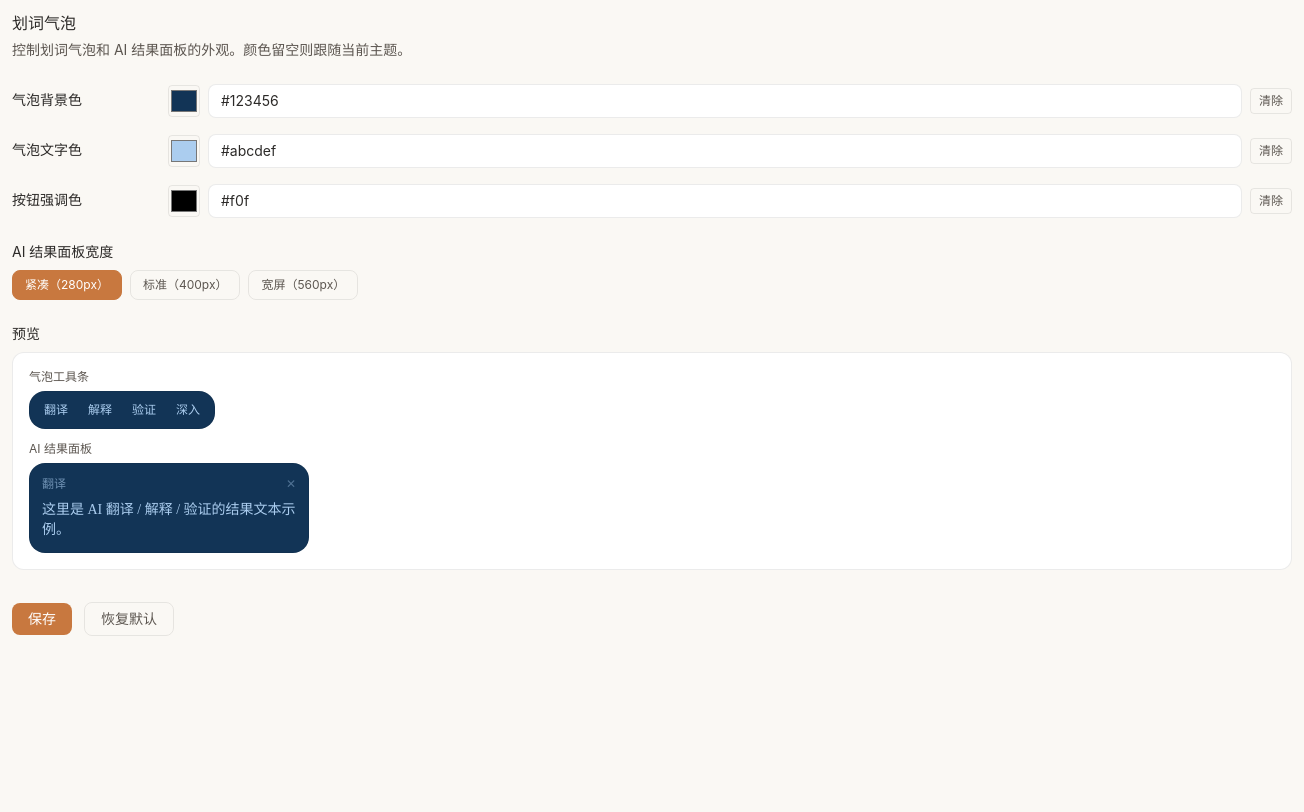
it: SelectionAppearance › keeps draft state consistent when reset fails
Clear the field named "气泡背景色颜色值": (725, 101) [208,84,1242,118]
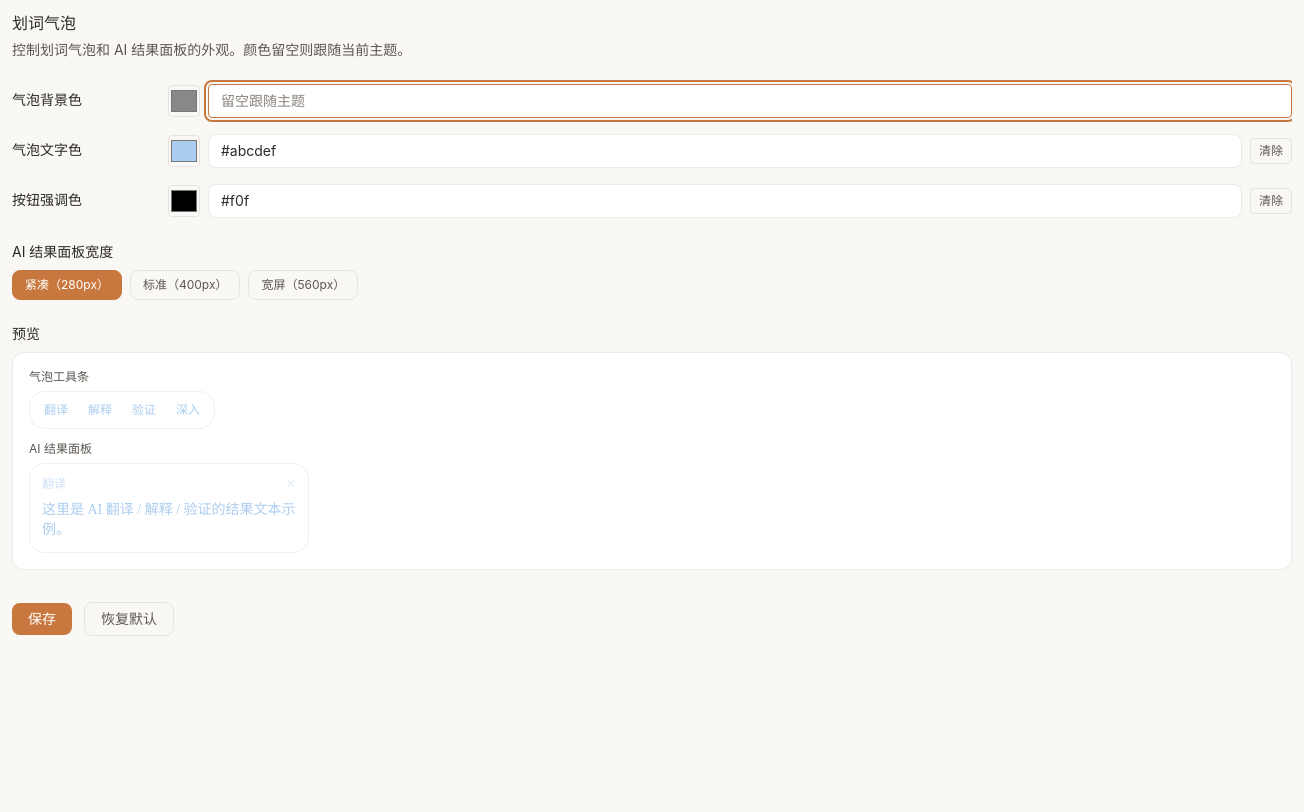
In the field named "气泡背景色颜色值": (750, 101) [208,84,1292,118], type "#654321"
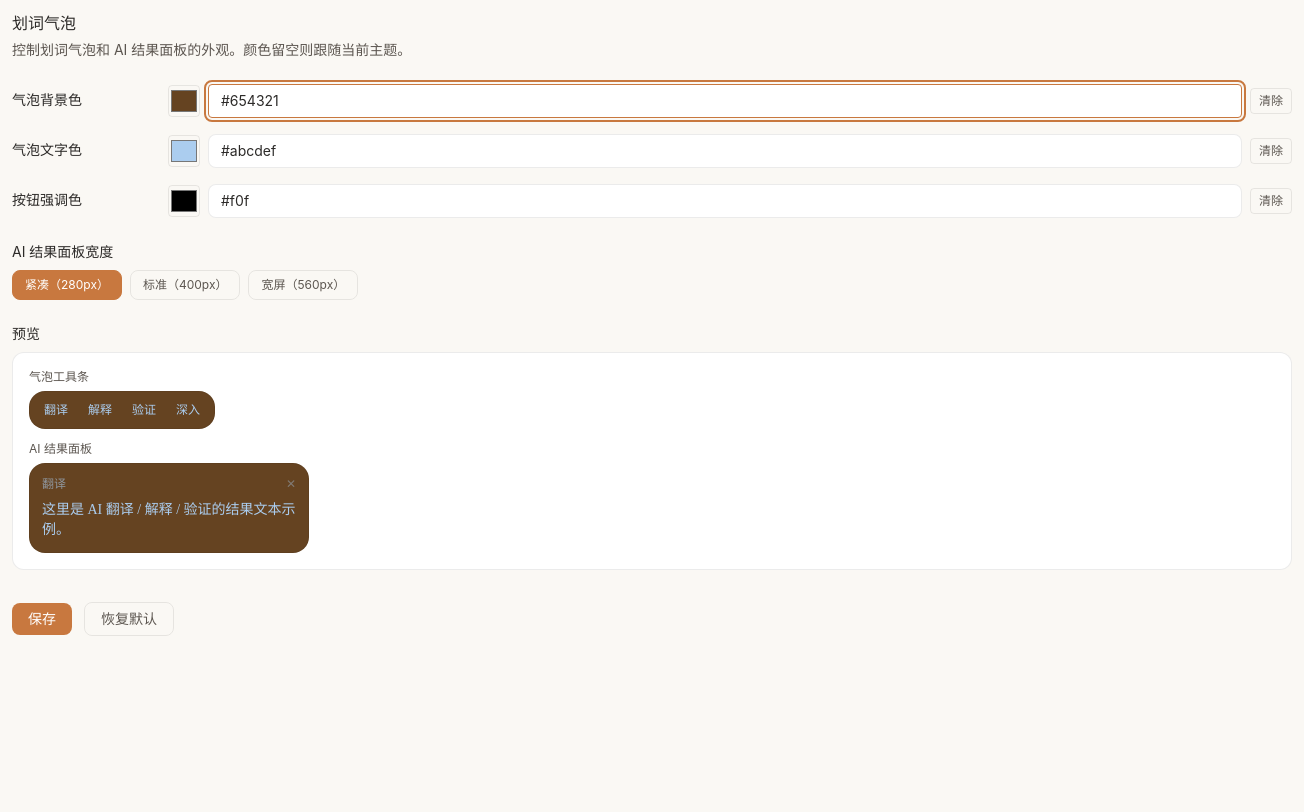
Click the button "宽屏（560px）": (303, 285) [248,270,358,300]
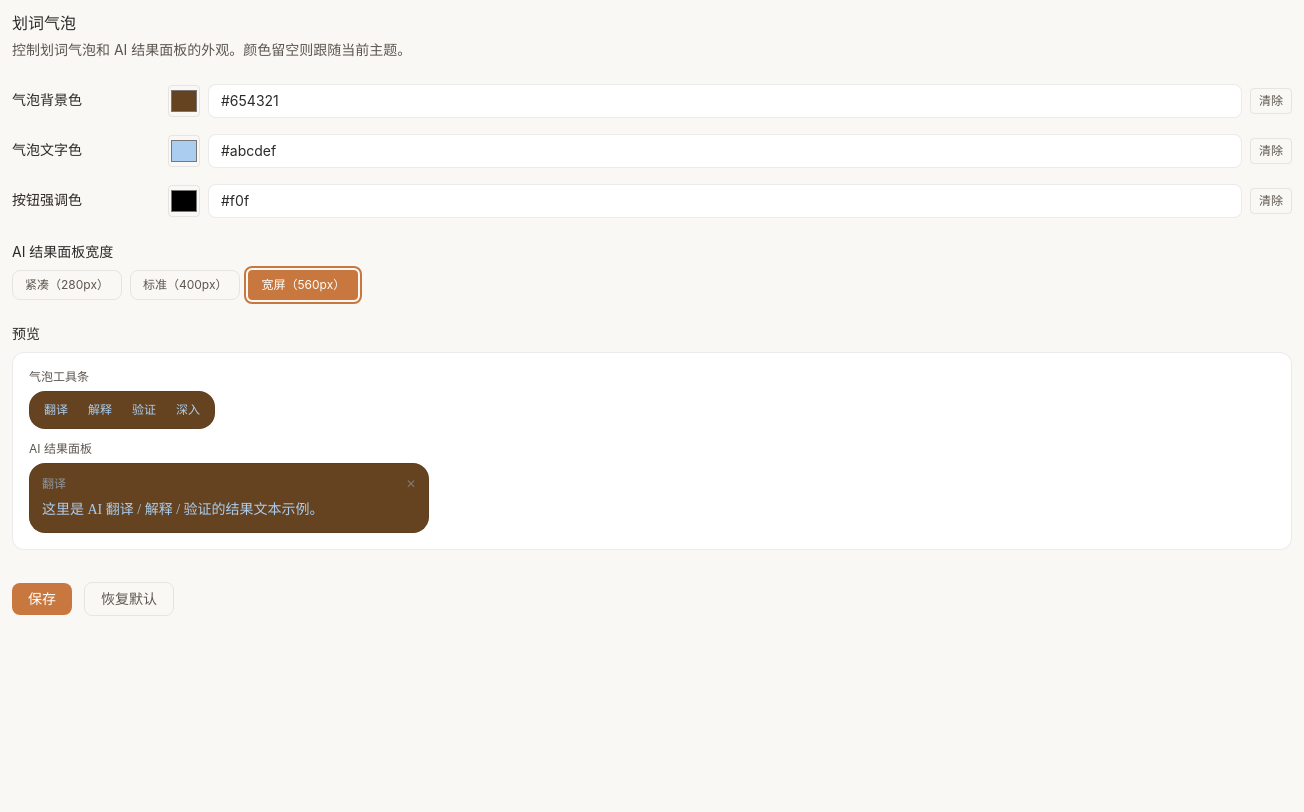
Click the button "恢复默认": (129, 599) [84,582,174,616]
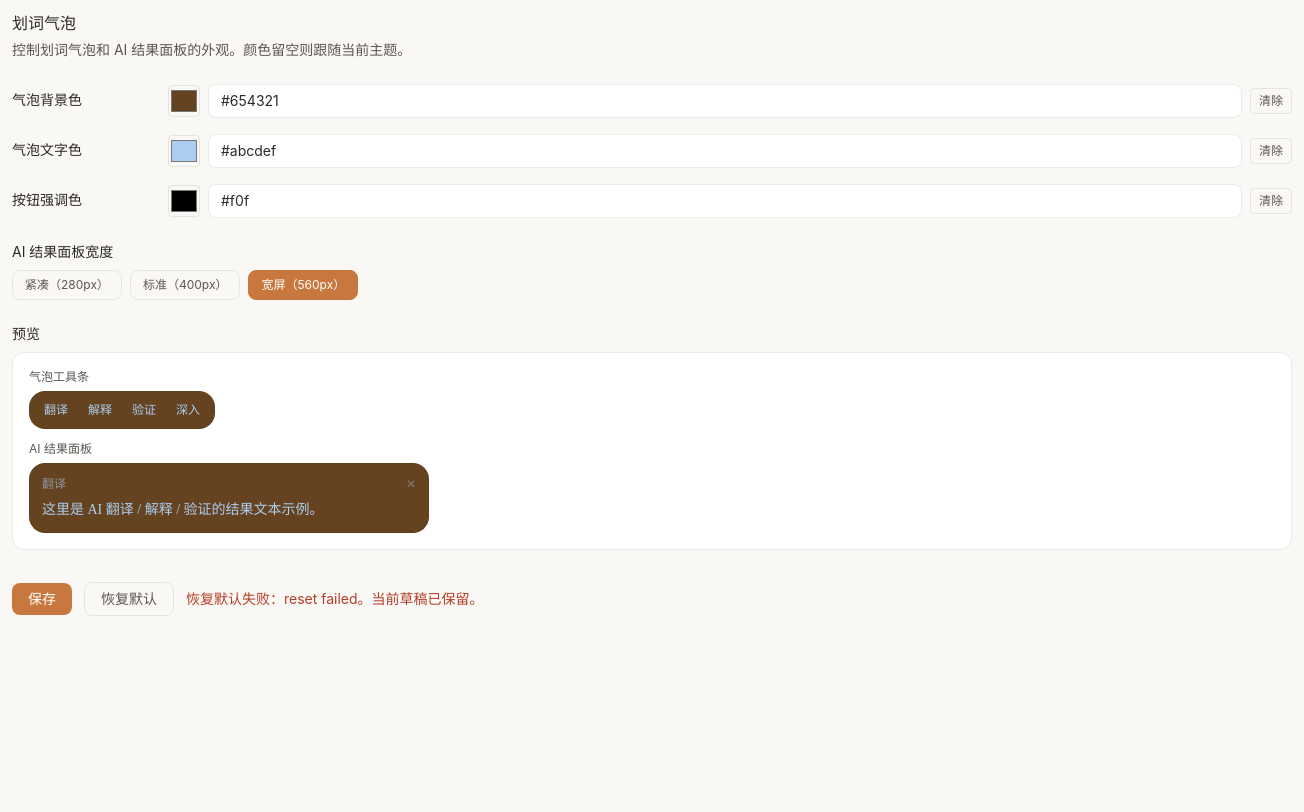
Expected: the field named "气泡文字色颜色值" holds "#abcdef", [208,134,1242,168]
Result: the message reads "恢复默认失败：reset failed。当前草稿已保留。" at [186,590,484,607]
